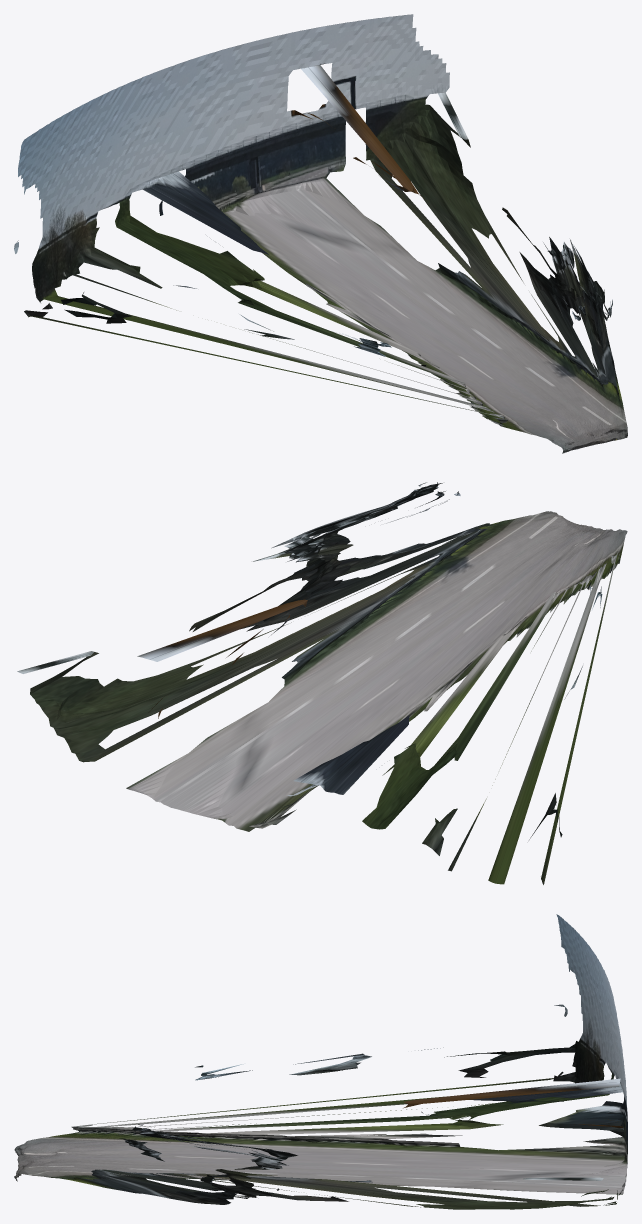
The picture shows the model from 3 angles, top to bottom: view 1: azimuth 30°, elevation 25°; view 2: azimuth 150°, elevation 25°; view 3: azimuth 270°, elevation 25°; orthographic projection. The views are drawn at different scales.
Visible parts, largest first — view 1: defaultobject; view 2: defaultobject; view 3: defaultobject.
Part boxes in pixels (x1,y1,x2,y2): defaultobject: (14,14,627,453); defaultobject: (17,482,627,884); defaultobject: (14,914,627,1209).
Bounding box in the file's own units: 34.06 × 13.53 × 44.41.
Materials: 1 (1 with a texture image).
